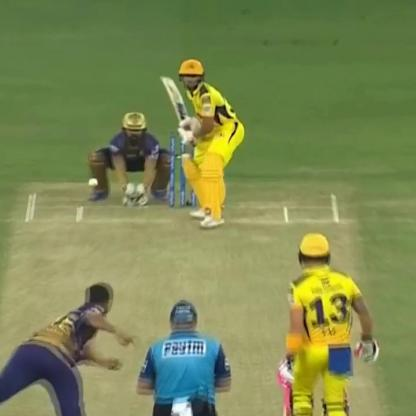ball: (86, 175, 102, 191)
bat: (155, 68, 202, 144), (276, 352, 301, 416)
pitch: (1, 184, 385, 416)
